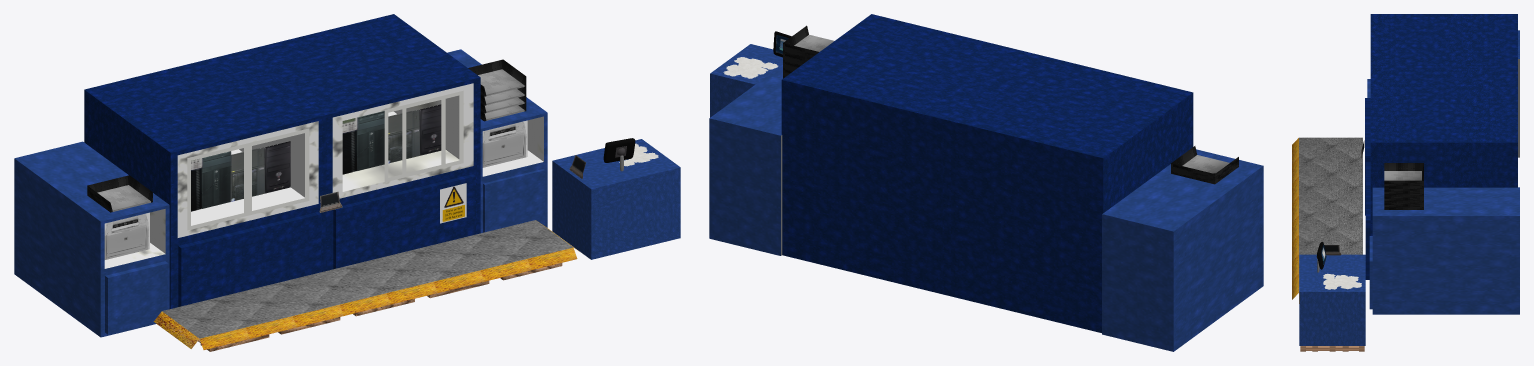
The model's file is MiniCentral.obj.
The picture shows the model from 3 angles, left to right: view 1: azimuth 30°, elevation 25°; view 2: azimuth 150°, elevation 25°; view 3: azimuth 270°, elevation 25°; orthographic projection. The views are drawn at different scales.
Parts seen in each view (by area): view 1: polySurface2 group1 BigMain, BigMain pCube1, BigBlue pCube2, pPlane9, pPlane10, polySurface23, pPlane6, pPlane7, pCube9, group1 BigMain pPlane1, group1 BigMain pPlane2, group1 BigMain pPlane4 (+3 smaller); view 2: polySurface2 group1 BigMain, BigBlue pCube2, pCube9, polySurface23, pPlane13; view 3: polySurface2 group1 BigMain, BigMain pCube1, BigBlue pCube2, polySurface23, pPlane13, polySurface7 BigBlue, monitor:Mesh.
Boxes of the visible parts, bbox=[...] form: polySurface2 group1 BigMain: bbox=[14, 14, 547, 337]; BigMain pCube1: bbox=[153, 220, 579, 349]; BigBlue pCube2: bbox=[552, 139, 680, 259]; pPlane9: bbox=[342, 104, 441, 174]; pPlane10: bbox=[191, 141, 290, 211]; polySurface23: bbox=[468, 59, 526, 121]; pPlane6: bbox=[104, 212, 149, 259]; pPlane7: bbox=[482, 120, 527, 167]; pCube9: bbox=[87, 175, 152, 212]; group1 BigMain pPlane1: bbox=[248, 128, 309, 215]; group1 BigMain pPlane2: bbox=[187, 143, 248, 230]; group1 BigMain pPlane4: bbox=[402, 90, 463, 177]; polySurface2 group1 BigMain: bbox=[709, 14, 1263, 351]; BigBlue pCube2: bbox=[710, 44, 782, 117]; pCube9: bbox=[1171, 146, 1238, 184]; polySurface23: bbox=[783, 25, 833, 78]; pPlane13: bbox=[723, 57, 778, 78]; polySurface2 group1 BigMain: bbox=[1365, 14, 1519, 314]; BigMain pCube1: bbox=[1292, 137, 1362, 303]; BigBlue pCube2: bbox=[1299, 254, 1365, 345]; polySurface23: bbox=[1384, 163, 1423, 209]; pPlane13: bbox=[1323, 273, 1361, 289]; polySurface7 BigBlue: bbox=[1300, 346, 1364, 351]; monitor:Mesh: bbox=[1316, 242, 1326, 272].
Bounding box in the file's own units: 2.8 × 0.8413 × 1.21.
31 materials, 25 textured.
